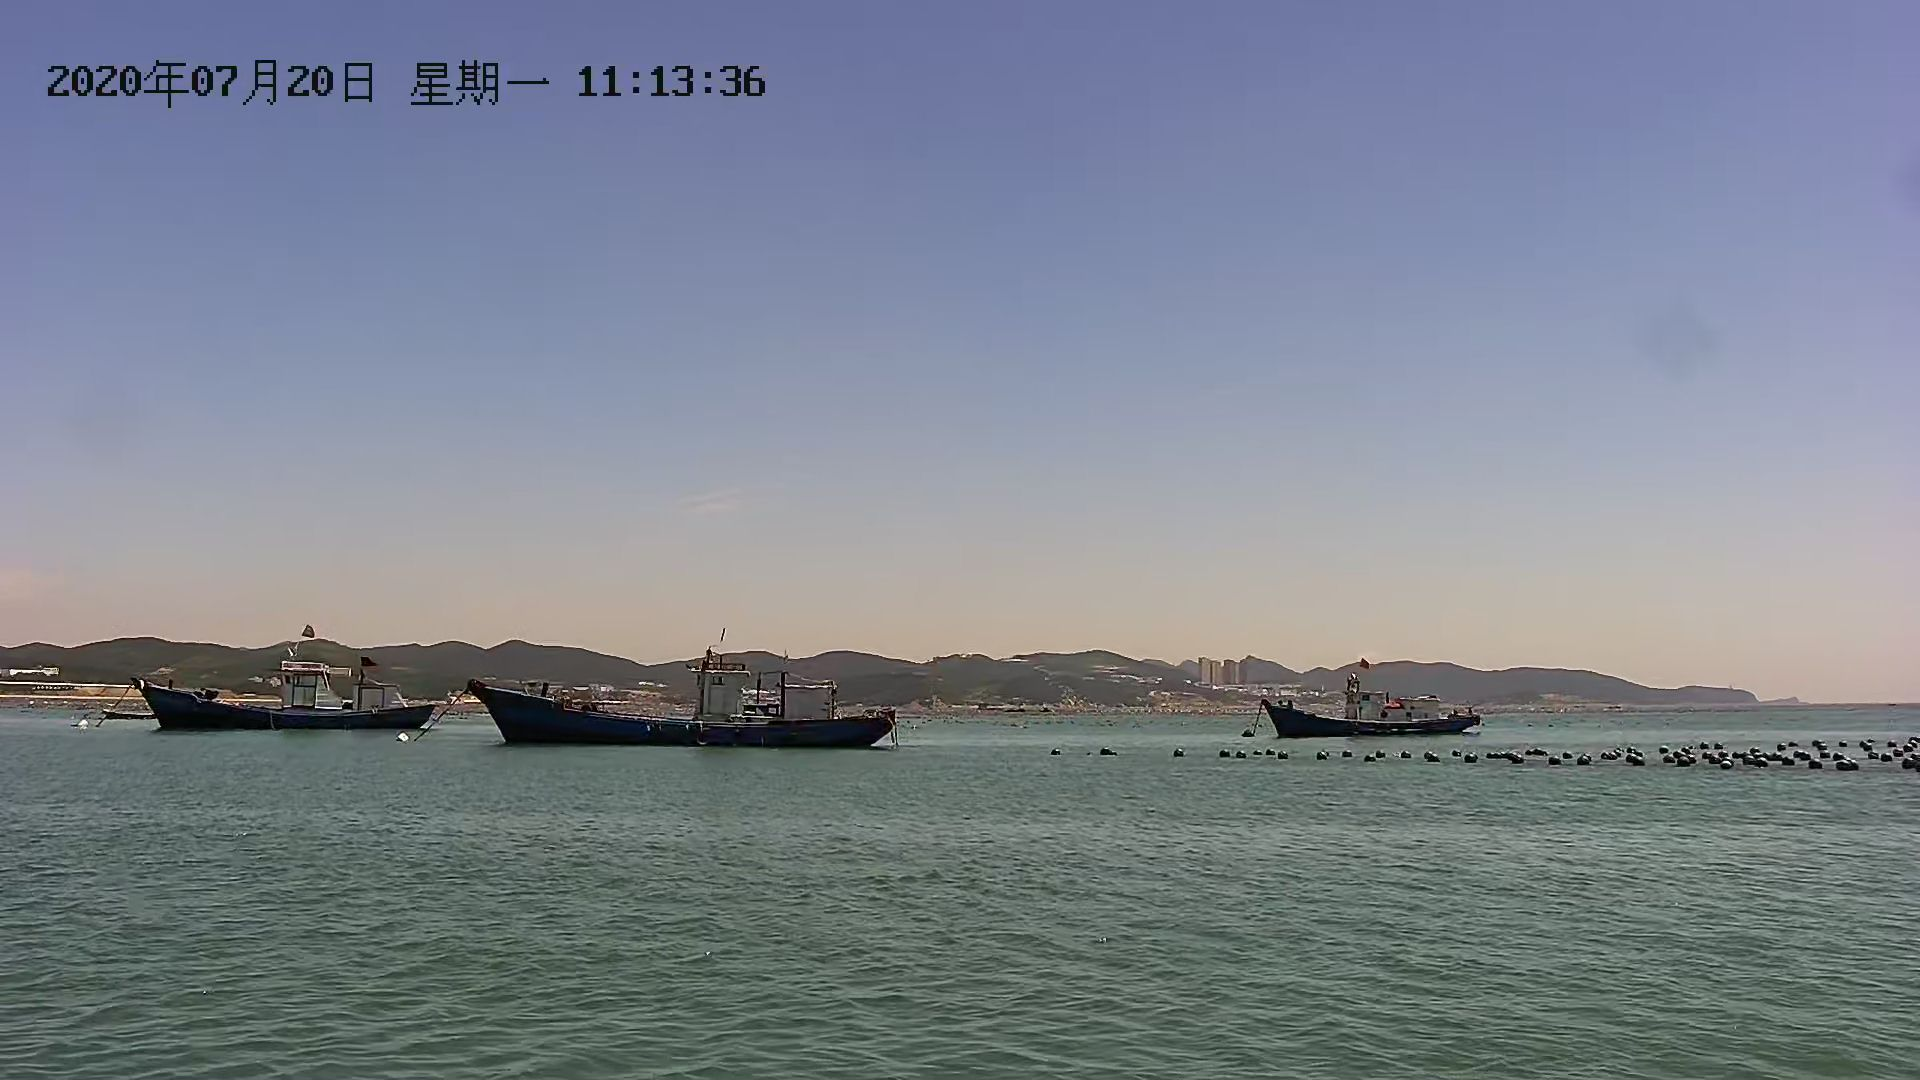boat: (465, 665, 905, 750), (135, 669, 436, 745), (1267, 684, 1491, 745)
